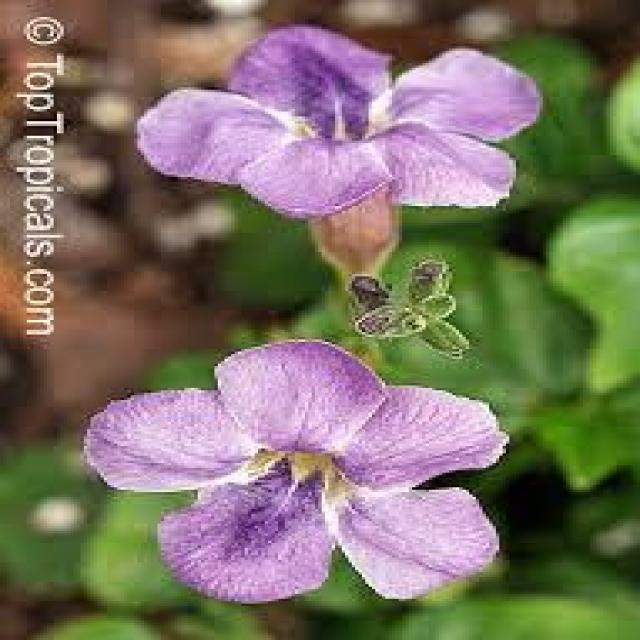organic waste: (77, 338, 523, 610), (132, 28, 548, 222)
